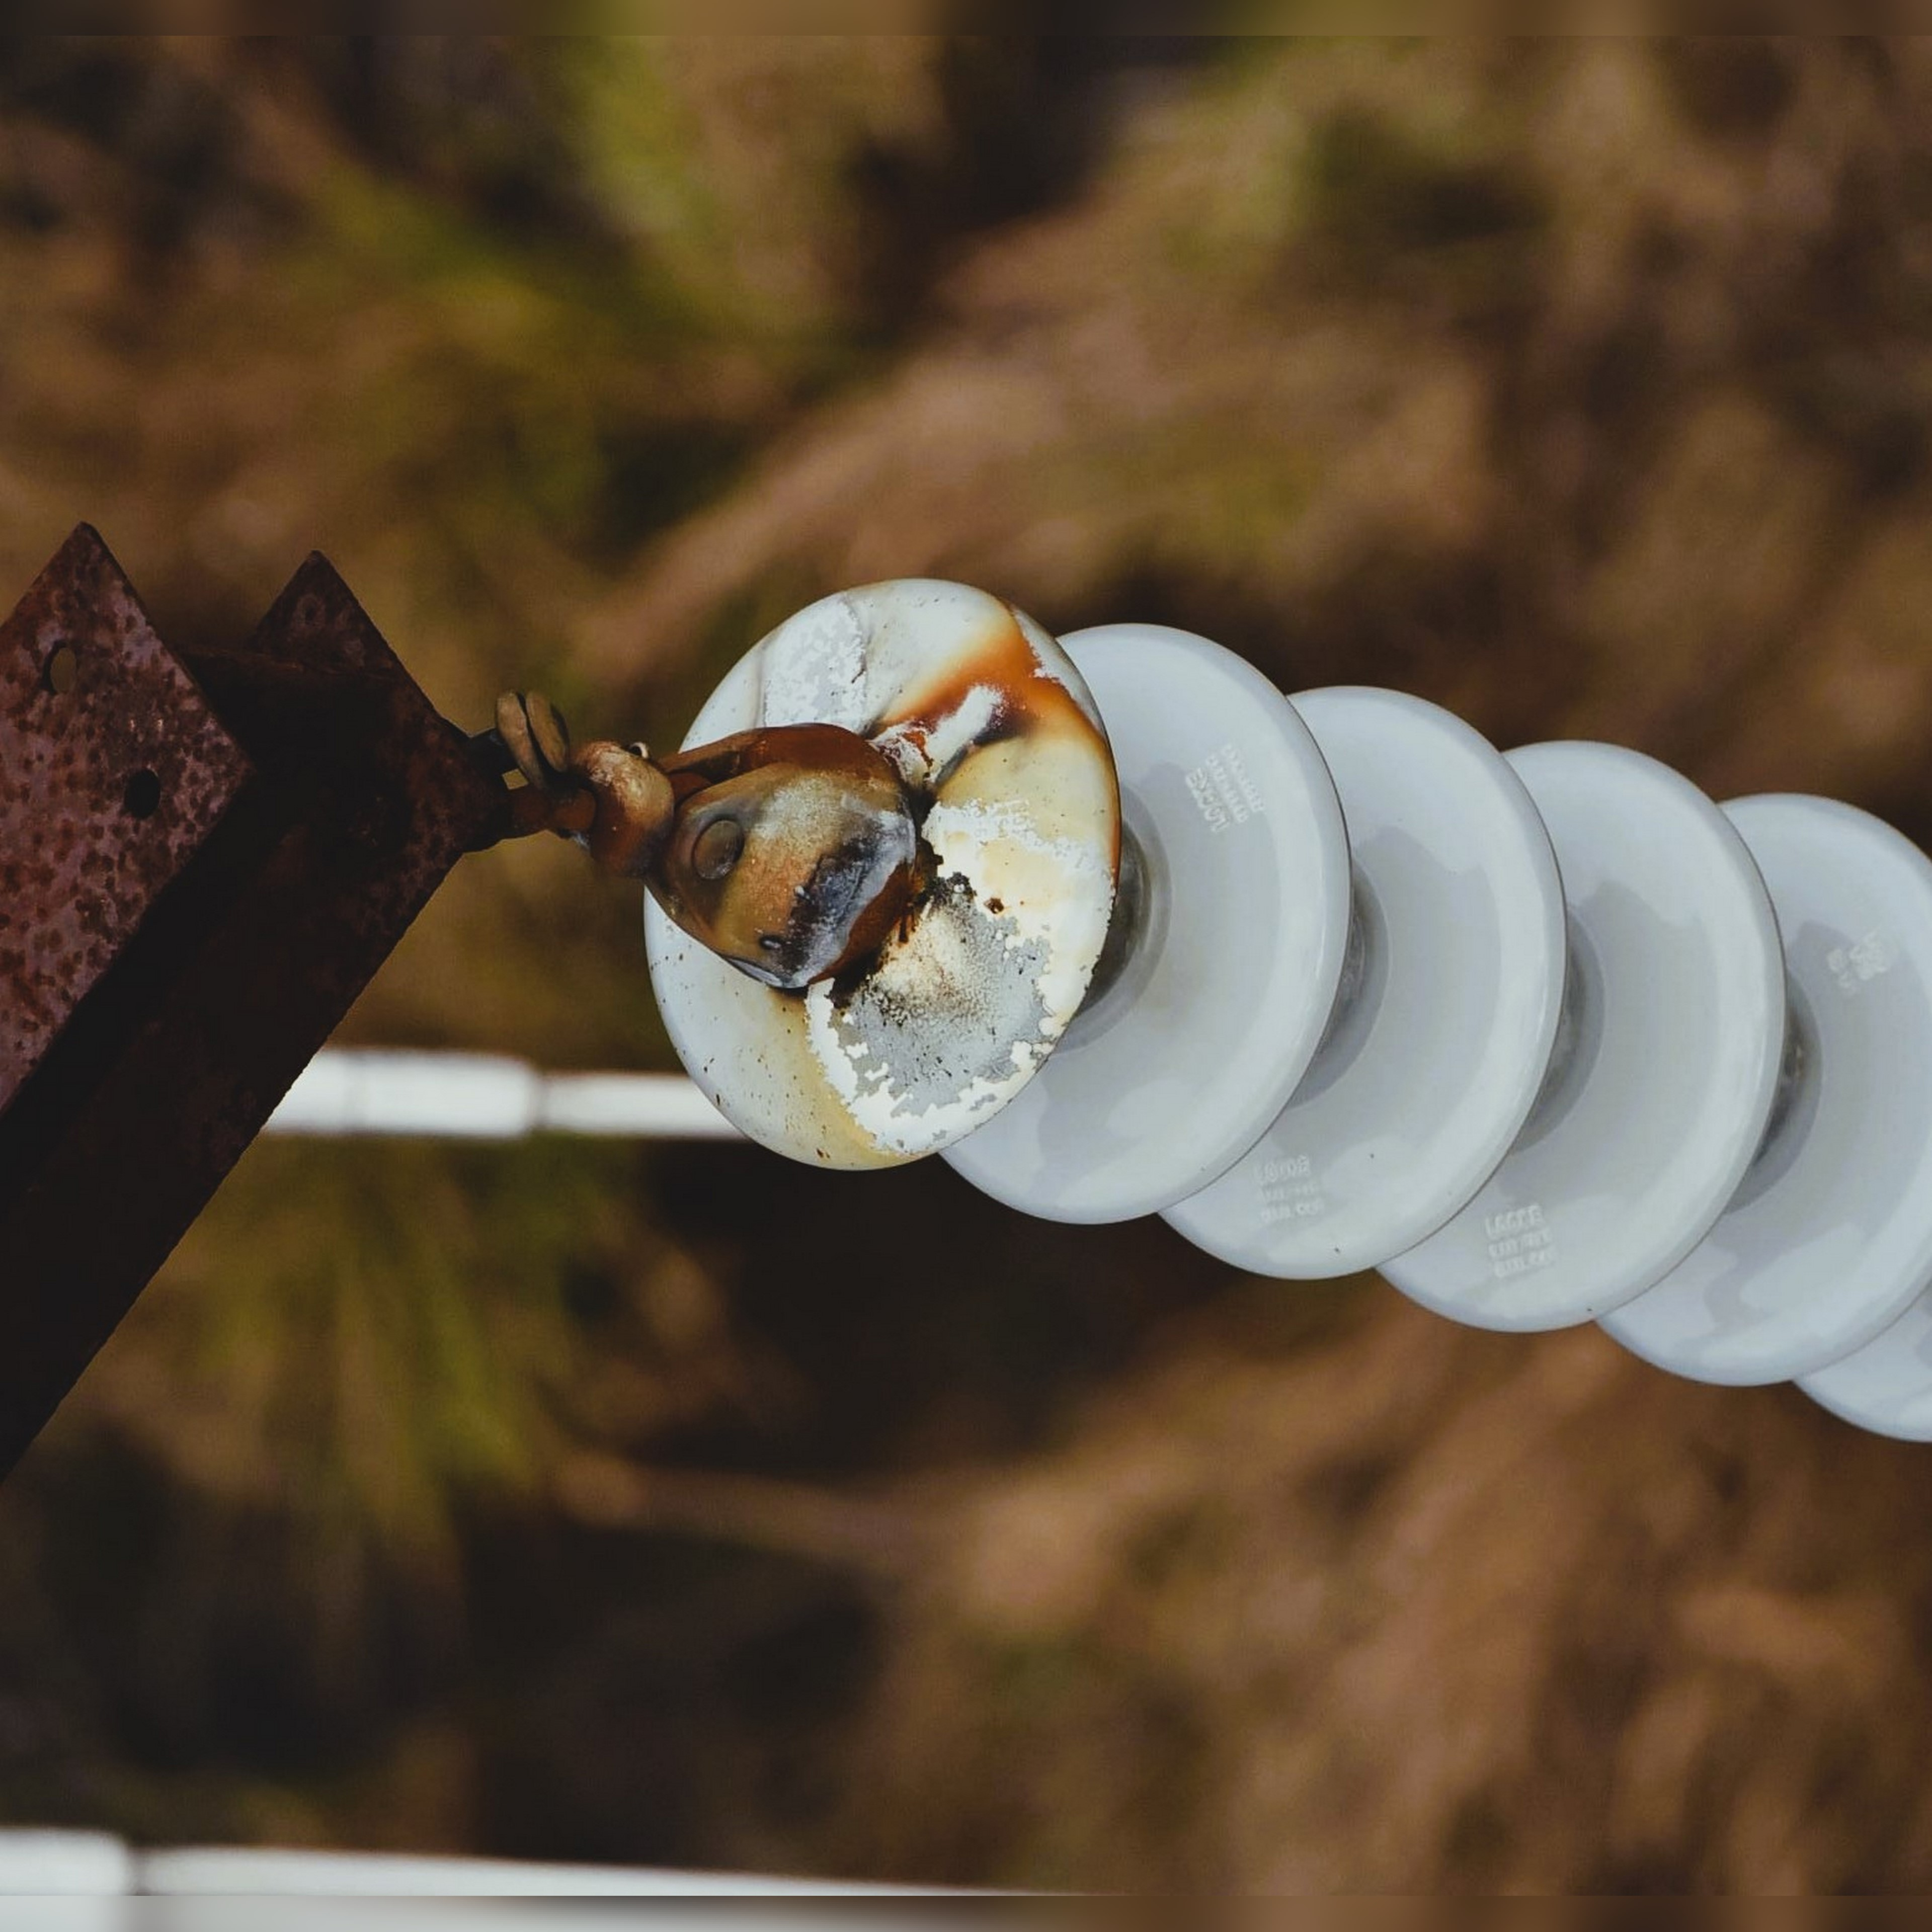Insulator flashover: (605, 554, 1150, 1189)
